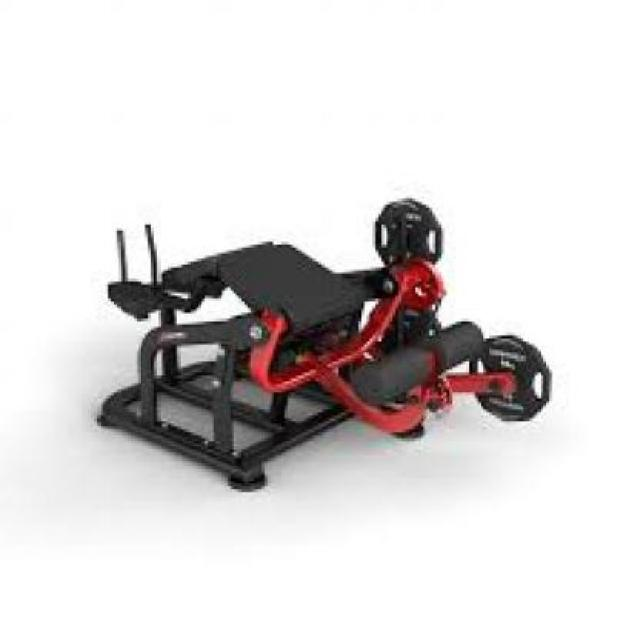reg curl machine: (99, 194, 558, 503)
